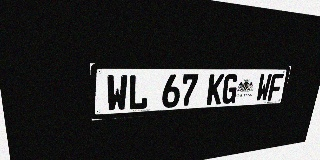6: (162, 74, 181, 108)
7: (179, 74, 199, 107)
F: (267, 74, 284, 101)
G: (221, 74, 239, 104)
K: (206, 74, 225, 105)
L: (128, 74, 149, 110)
W: (106, 75, 128, 112), (255, 74, 272, 102)
